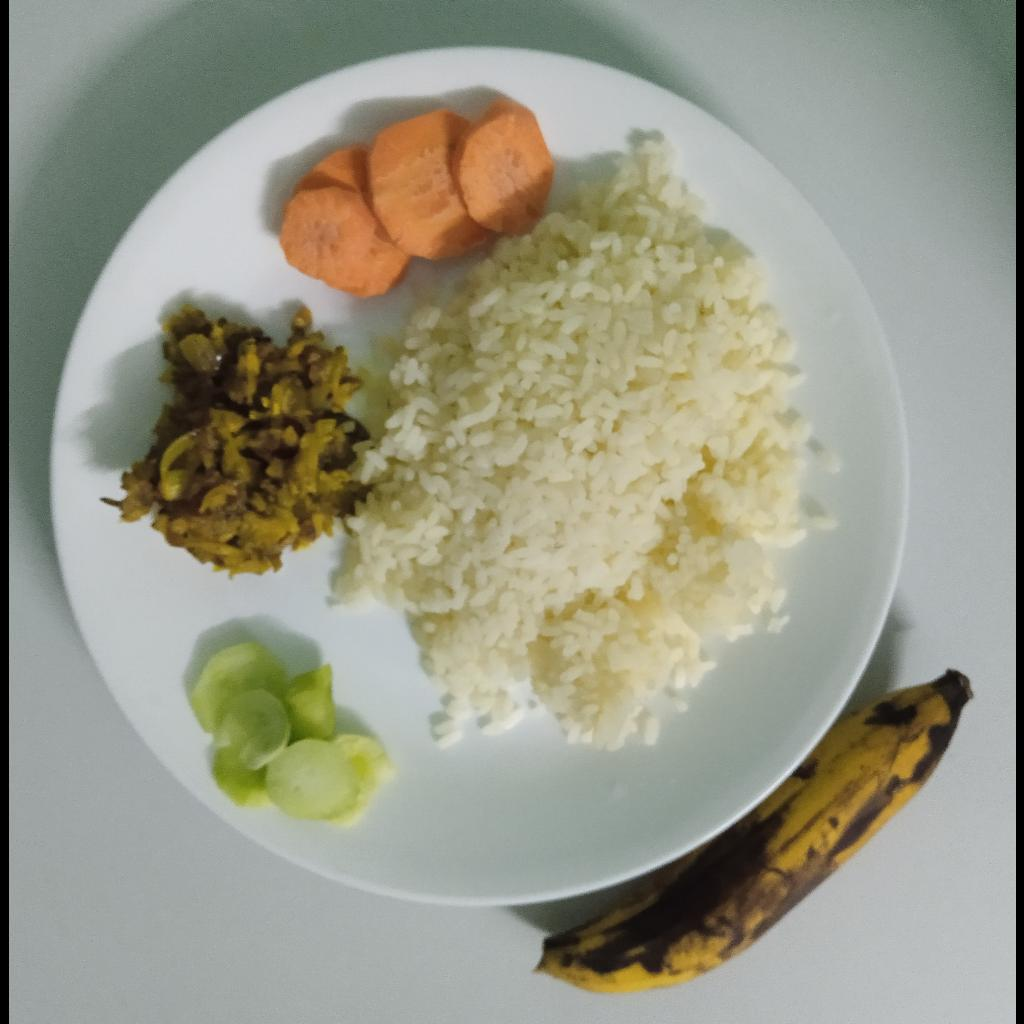banana: (535, 666, 972, 993)
carrot: (276, 98, 555, 300)
cucumber: (188, 638, 392, 824)
dundol: (111, 301, 366, 575)
rice: (330, 137, 814, 753)
